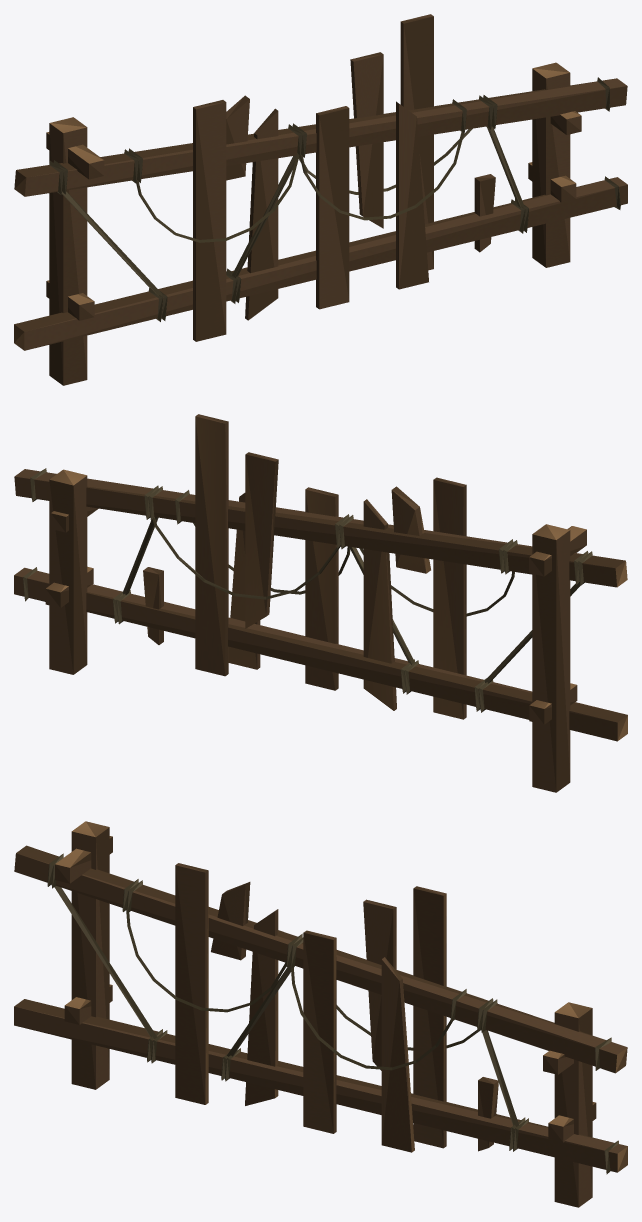
File: Wood_12A_Lod0.fbx
3 views of the same model, one above another, from view 1: azimuth 30°, elevation 25°; view 2: azimuth 150°, elevation 25°; view 3: azimuth 330°, elevation 25° (orthographic).
Visible parts, largest first — view 1: polySurface1104; view 2: polySurface1104; view 3: polySurface1104.
Boxes of the visible parts, box(x1,y1,x2,y2) form: polySurface1104: box(14, 14, 627, 385); polySurface1104: box(14, 414, 627, 792); polySurface1104: box(14, 821, 627, 1207).
Size of the model in its own units: 1000 by 441 by 125.
1 material, 1 textured.
